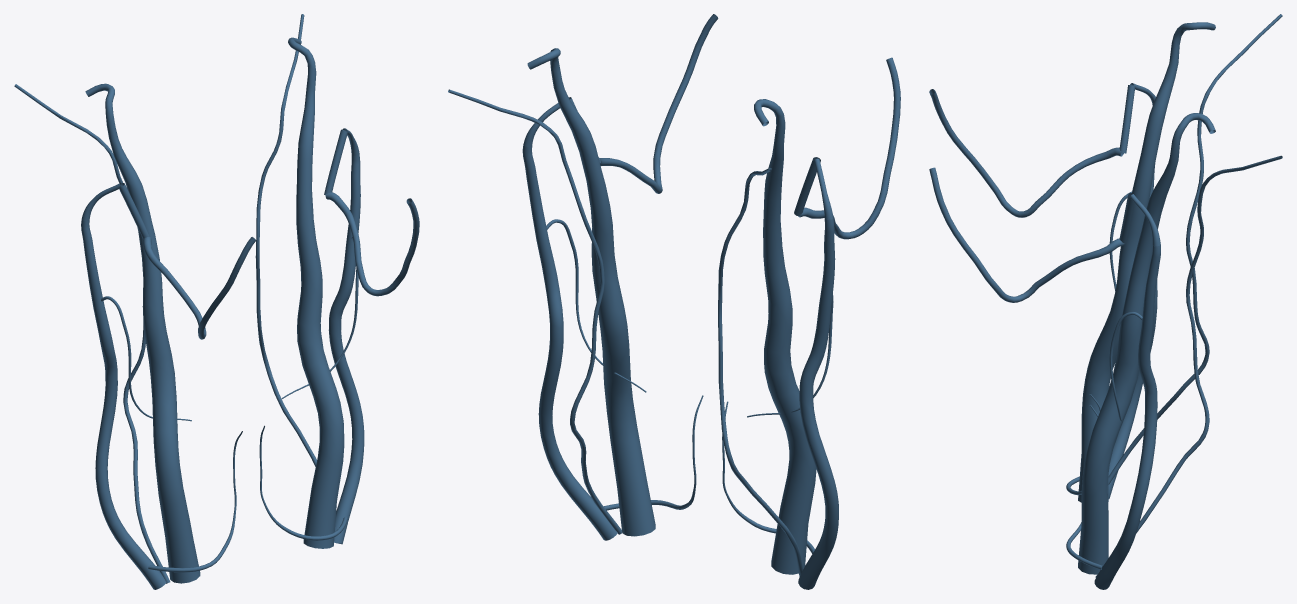
The model's file is venous-neck-mobile.glb.
3 renders of one model, left to right at view 1: azimuth 30°, elevation 25°; view 2: azimuth 150°, elevation 25°; view 3: azimuth 270°, elevation 25°, orthographic. The views are drawn at different scales.
Visible parts, largest first — view 1: za.internal-jugular-vein-l, za.internal-jugular-vein-r, za.external-jugular-vein-r, za.external-jugular-vein-l, za.vertebral-vein-l, za.vertebral-vein-r, za.facial-vein-l, za.facial-vein-r, za.anterior-jugular-vein-r, za.anterior-jugular-vein-l, za.anterior-division-of-retromandibular-vein-l; view 2: za.internal-jugular-vein-l, za.internal-jugular-vein-r, za.external-jugular-vein-l, za.external-jugular-vein-r, za.vertebral-vein-l, za.vertebral-vein-r, za.facial-vein-l, za.facial-vein-r, za.superior-thyroid-vein-l, za.anterior-jugular-vein-l; view 3: za.internal-jugular-vein-l, za.internal-jugular-vein-r, za.external-jugular-vein-l, za.vertebral-vein-r, za.vertebral-vein-l, za.facial-vein-l, za.facial-vein-r, za.external-jugular-vein-r, za.anterior-division-of-retromandibular-vein-r.
Part boxes in pixels (<box>): za.internal-jugular-vein-l: <box>288,37,344,548</box>; za.internal-jugular-vein-r: <box>85,83,200,583</box>; za.external-jugular-vein-r: <box>81,219,166,589</box>; za.external-jugular-vein-l: <box>328,153,364,544</box>; za.vertebral-vein-l: <box>255,14,316,466</box>; za.vertebral-vein-r: <box>14,84,170,583</box>; za.facial-vein-l: <box>325,192,419,296</box>; za.facial-vein-r: <box>143,237,256,339</box>; za.anterior-jugular-vein-r: <box>148,431,242,572</box>; za.anterior-jugular-vein-l: <box>259,425,347,540</box>; za.anterior-division-of-retromandibular-vein-l: <box>324,129,347,195</box>; za.internal-jugular-vein-l: <box>527,48,655,536</box>; za.internal-jugular-vein-r: <box>754,99,816,574</box>; za.external-jugular-vein-l: <box>522,144,617,540</box>; za.external-jugular-vein-r: <box>798,218,838,589</box>; za.vertebral-vein-l: <box>448,89,621,534</box>; za.vertebral-vein-r: <box>718,167,803,576</box>; za.facial-vein-l: <box>598,14,718,193</box>; za.facial-vein-r: <box>798,57,900,239</box>; za.superior-thyroid-vein-l: <box>546,219,646,392</box>; za.anterior-jugular-vein-l: <box>603,395,703,510</box>; za.internal-jugular-vein-l: <box>1078,113,1215,574</box>; za.internal-jugular-vein-r: <box>1078,22,1215,502</box>; za.external-jugular-vein-l: <box>1094,245,1160,589</box>; za.vertebral-vein-r: <box>1108,14,1282,484</box>; za.vertebral-vein-l: <box>1095,155,1282,577</box>; za.facial-vein-l: <box>929,167,1124,302</box>; za.facial-vein-r: <box>929,89,1123,217</box>; za.external-jugular-vein-r: <box>1108,164,1157,498</box>; za.anterior-division-of-retromandibular-vein-r: <box>1119,85,1135,153</box>.
Size of the model in its own units: 0.1069 by 0.1657 by 0.1115.
